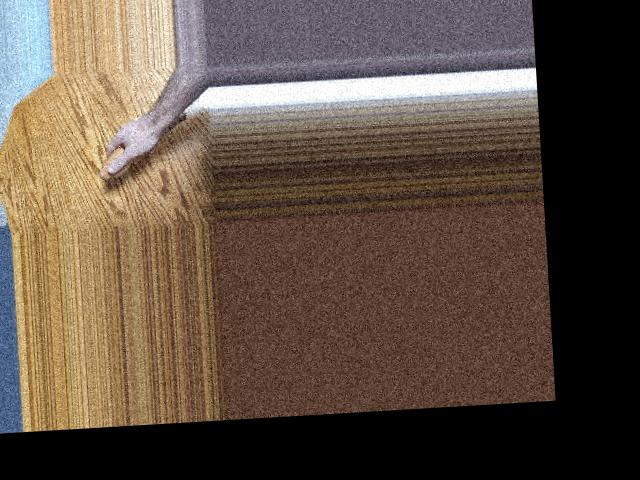sweet_potato: (96, 110, 192, 180)
